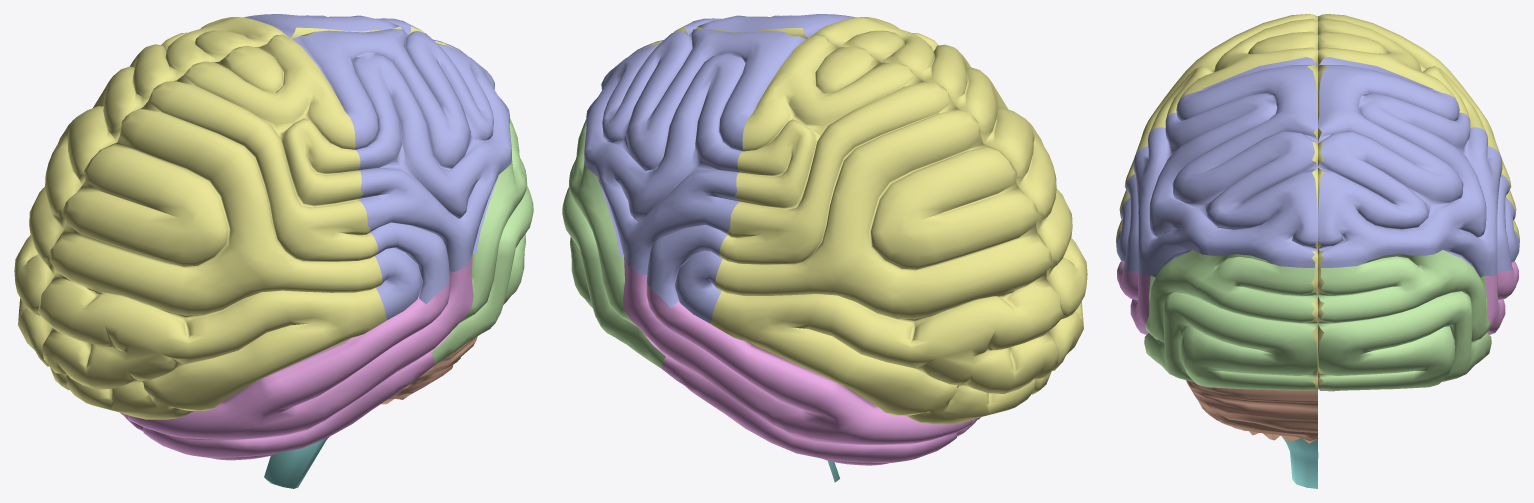
Rendered from brain4.gltf.
3 renders of one model, left to right at view 1: azimuth 30°, elevation 25°; view 2: azimuth 150°, elevation 25°; view 3: azimuth 270°, elevation 25°, orthographic. The views are drawn at different scales.
Parts seen in each view (by area): view 1: frontal, parietal, temporal, occipital, brainstem, cerebellum; view 2: frontal, parietal, temporal, occipital; view 3: parietal, occipital, frontal, cerebellum, temporal, brainstem.
Part boxes in pixels (x1,y1,x2,y2): frontal: (14, 17, 459, 419); parietal: (244, 14, 511, 319); temporal: (120, 254, 473, 460); occipital: (431, 118, 533, 364); brainstem: (264, 437, 328, 488); cerebellum: (381, 336, 477, 404); frontal: (637, 17, 1087, 424); parietal: (584, 14, 854, 323); temporal: (623, 256, 980, 465); occipital: (562, 120, 665, 368); parietal: (1116, 57, 1519, 277); occipital: (1144, 250, 1491, 390); frontal: (1116, 14, 1519, 388); cerebellum: (1185, 380, 1318, 443); temporal: (1117, 261, 1518, 391); brainstem: (1282, 437, 1318, 488).
Size of the model in its own units: 7.4 by 6.76 by 5.73.
